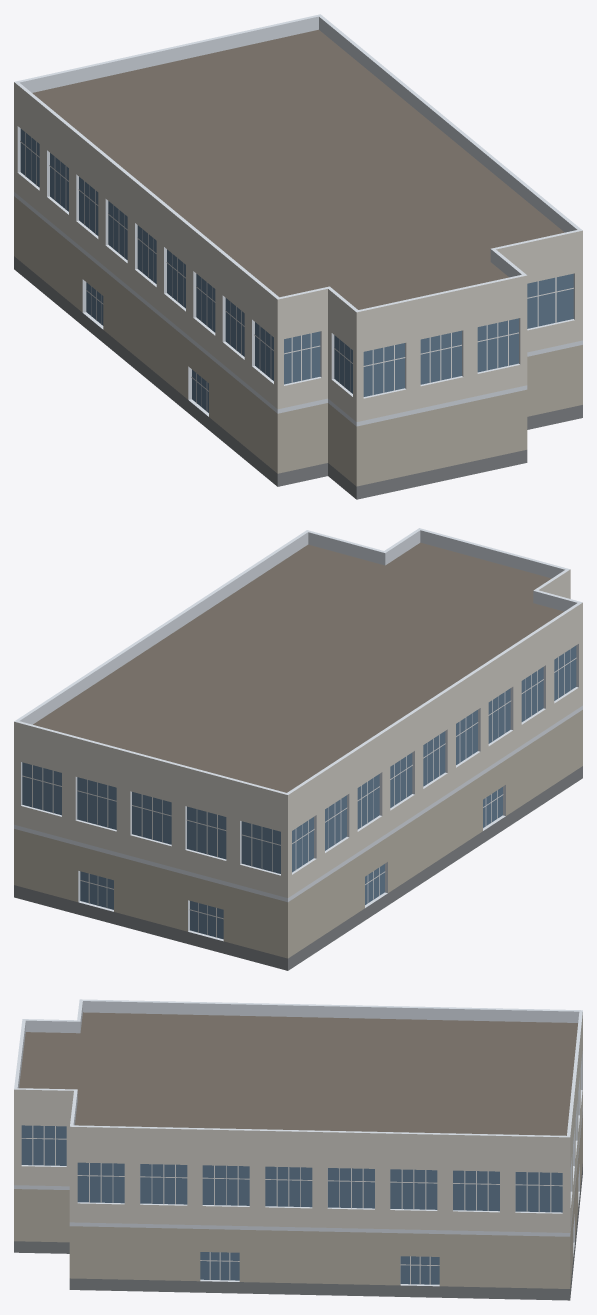
The picture shows the model from 3 angles, top to bottom: view 1: azimuth 30°, elevation 25°; view 2: azimuth 150°, elevation 25°; view 3: azimuth 270°, elevation 25°; orthographic projection. The views are drawn at different scales.
Parts seen in each view (by area): view 1: hall2__roof, hall2__wall-plaster, hall2__brick, hall2__glass, hall2__trim-concrete, hall2__base-stone, hall2__frame; view 2: hall2__roof, hall2__wall-plaster, hall2__brick, hall2__glass, hall2__trim-concrete, hall2__base-stone, hall2__frame; view 3: hall2__roof, hall2__wall-plaster, hall2__brick, hall2__glass, hall2__trim-concrete, hall2__base-stone, hall2__frame.
Part boxes in pixels (<box>): hall2__roof: <box>32,29,564,309</box>; hall2__wall-plaster: <box>14,82,582,421</box>; hall2__brick: <box>14,196,582,486</box>; hall2__glass: <box>20,129,573,412</box>; hall2__trim-concrete: <box>14,14,582,426</box>; hall2__base-stone: <box>14,256,582,499</box>; hall2__frame: <box>20,132,573,411</box>; hall2__roof: <box>33,542,563,792</box>; hall2__wall-plaster: <box>14,569,582,897</box>; hall2__brick: <box>14,710,582,958</box>; hall2__glass: <box>22,645,576,939</box>; hall2__trim-concrete: <box>14,528,582,941</box>; hall2__base-stone: <box>14,766,582,970</box>; hall2__frame: <box>22,649,576,937</box>; hall2__roof: <box>19,1012,577,1135</box>; hall2__wall-plaster: <box>14,1012,582,1232</box>; hall2__brick: <box>14,1111,582,1288</box>; hall2__glass: <box>21,1125,562,1284</box>; hall2__trim-concrete: <box>14,999,582,1286</box>; hall2__base-stone: <box>14,1164,582,1300</box>; hall2__frame: <box>21,1125,562,1284</box>.
Bounding box in the file's own units: 23.21 × 12.8 × 40.46.
